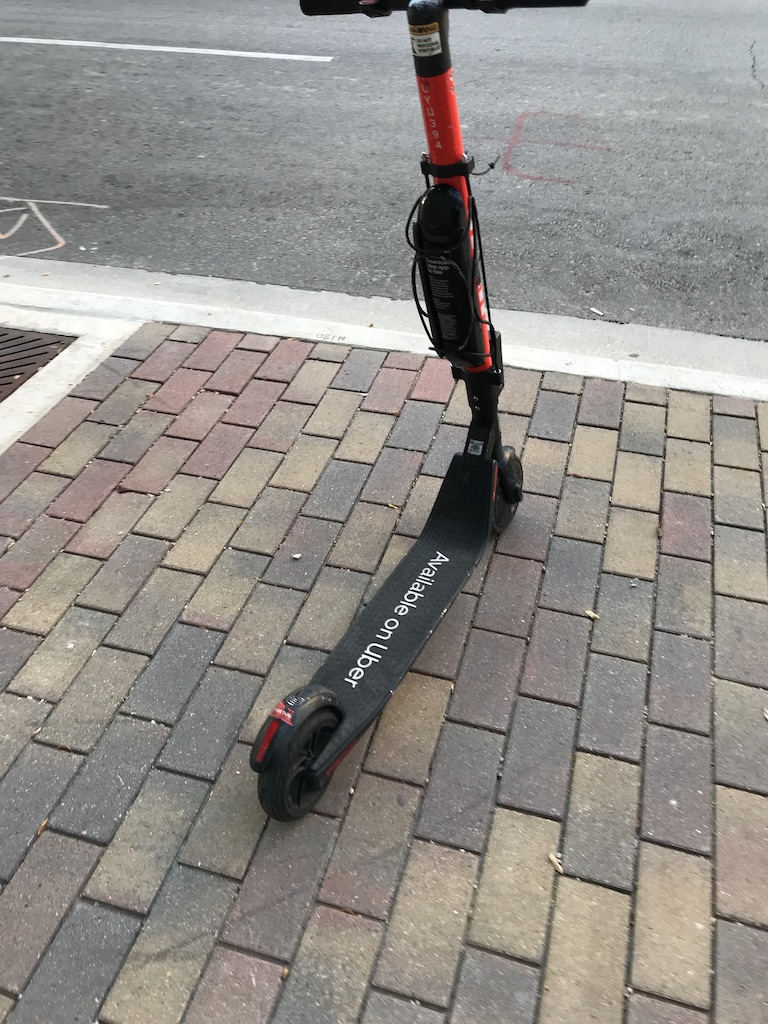scooter: (248, 4, 585, 827)
